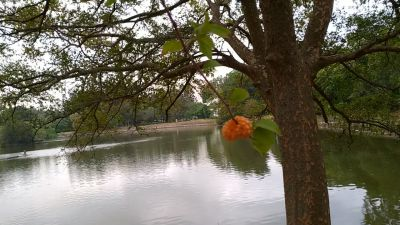eggs: (220, 114, 254, 142)
